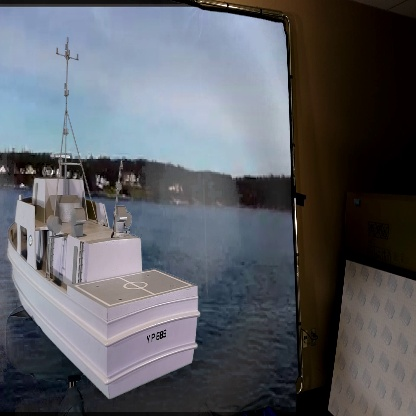YP689: (7, 39, 201, 399)
